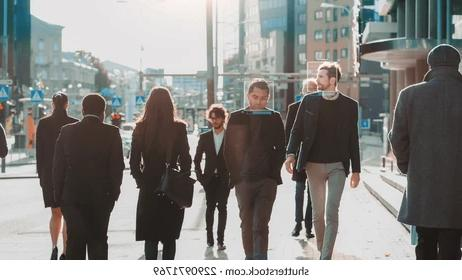coat: (388, 65, 462, 228)
dress: (129, 119, 193, 241)
jacket: (52, 113, 127, 204), (286, 89, 360, 173), (223, 104, 286, 184), (193, 129, 232, 186)
sweater: (309, 97, 341, 163)
trousers: (306, 160, 346, 260), (234, 178, 279, 259), (60, 203, 115, 261), (199, 177, 231, 241), (415, 223, 462, 260)
